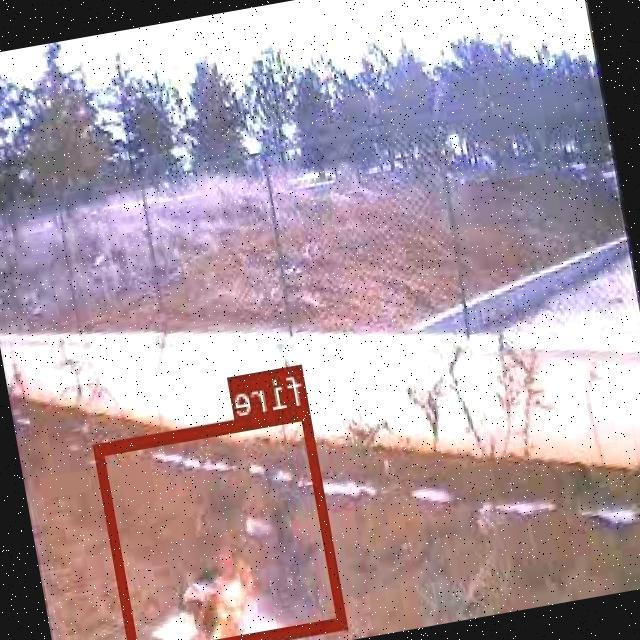fire: (95, 404, 348, 640)
